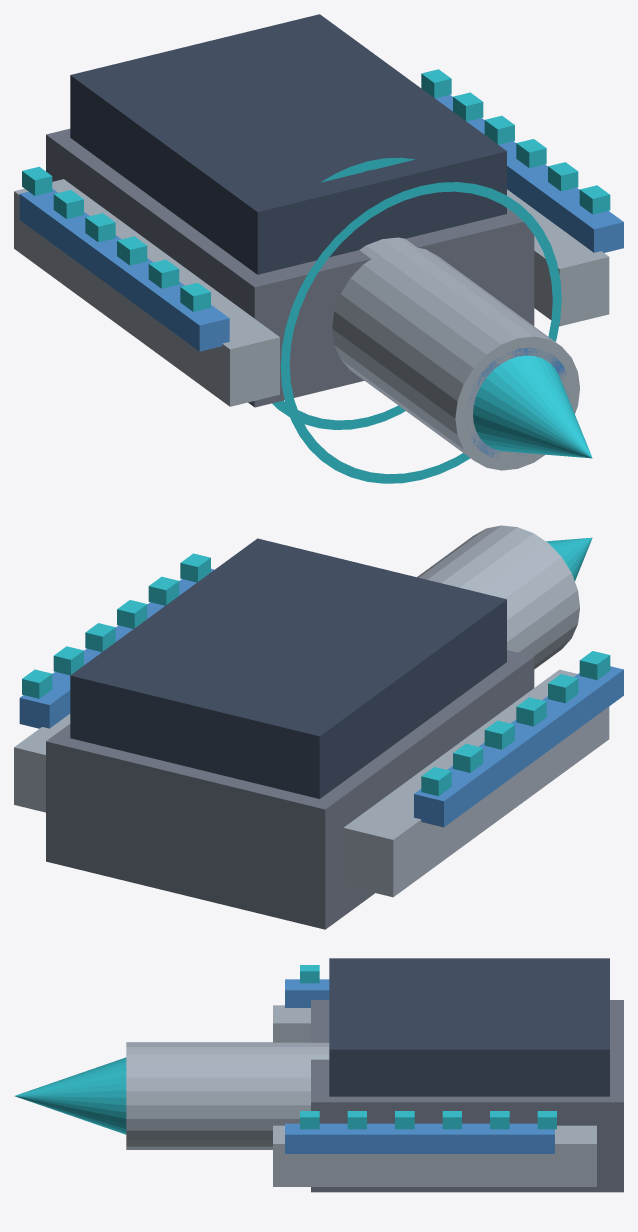
Rendered from arc-3.glb.
The picture shows the model from 3 angles, top to bottom: view 1: azimuth 30°, elevation 25°; view 2: azimuth 150°, elevation 25°; view 3: azimuth 270°, elevation 25°; orthographic projection. The views are drawn at different scales.
Parts seen in each view (by area): view 1: part001, part002, part000, part005, part004, part006, part024, part013, part014, part023, part003, part011 (+11 smaller); view 2: part001, part000, part005, part002, part006, part014, part013, part004, part012, part019, part008, part015 (+8 smaller); view 3: part001, part002, part000, part013, part014, part004, part005, part006, part012, part016, part018, part020 (+3 smaller).
Boxes of the visible parts, x1,y1,x2,y2 form: part001: (70,14,506,274); part002: (332,237,579,470); part000: (46,128,534,407); part005: (14,179,279,406); part004: (473,355,592,458); part006: (19,189,229,351); part024: (280,182,561,483); part013: (507,189,609,326); part014: (435,95,623,252); part023: (272,157,415,429); part003: (467,347,568,458); part011: (148,259,179,288); part001: (70,538,506,798); part000: (46,650,534,929); part005: (343,669,609,897); part002: (417,525,579,669); part006: (414,666,623,827); part014: (19,569,214,728); part013: (14,714,70,812); part004: (546,537,592,580); part012: (579,651,610,679); part019: (148,576,179,605); part008: (453,743,483,772); part015: (22,669,52,698); part001: (329,958,609,1096); part002: (126,1042,329,1149); part000: (311,1000,623,1192); part013: (273,1125,596,1186); part014: (285,1123,554,1153); part004: (14,1057,126,1134); part005: (273,1005,310,1042); part006: (285,979,329,1007); part012: (300,965,319,983); part016: (490,1111,509,1129); part018: (395,1111,414,1129); part020: (300,1111,319,1129).
Bounding box in the file's own units: 1.7 × 1.13 × 2.82.
